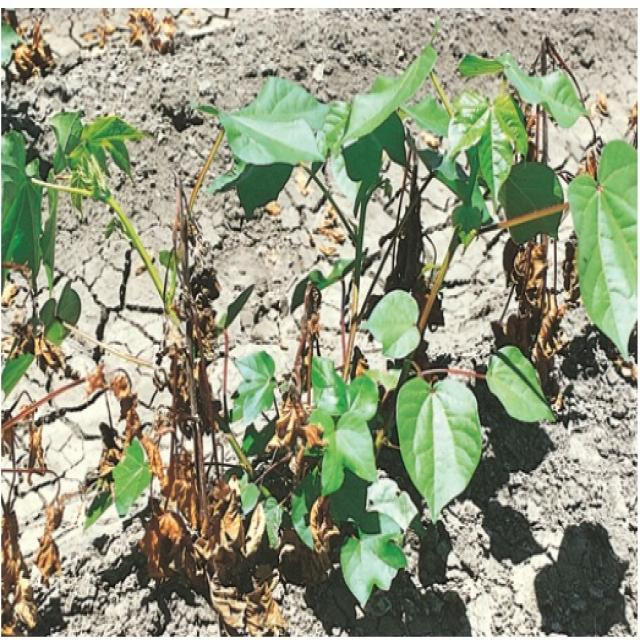Fusarium Wilt: (10, 28, 639, 640)
